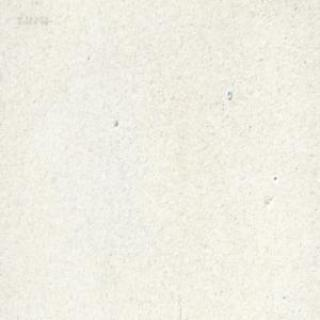Washertrack_idkeyframe: (225, 88, 231, 100)
